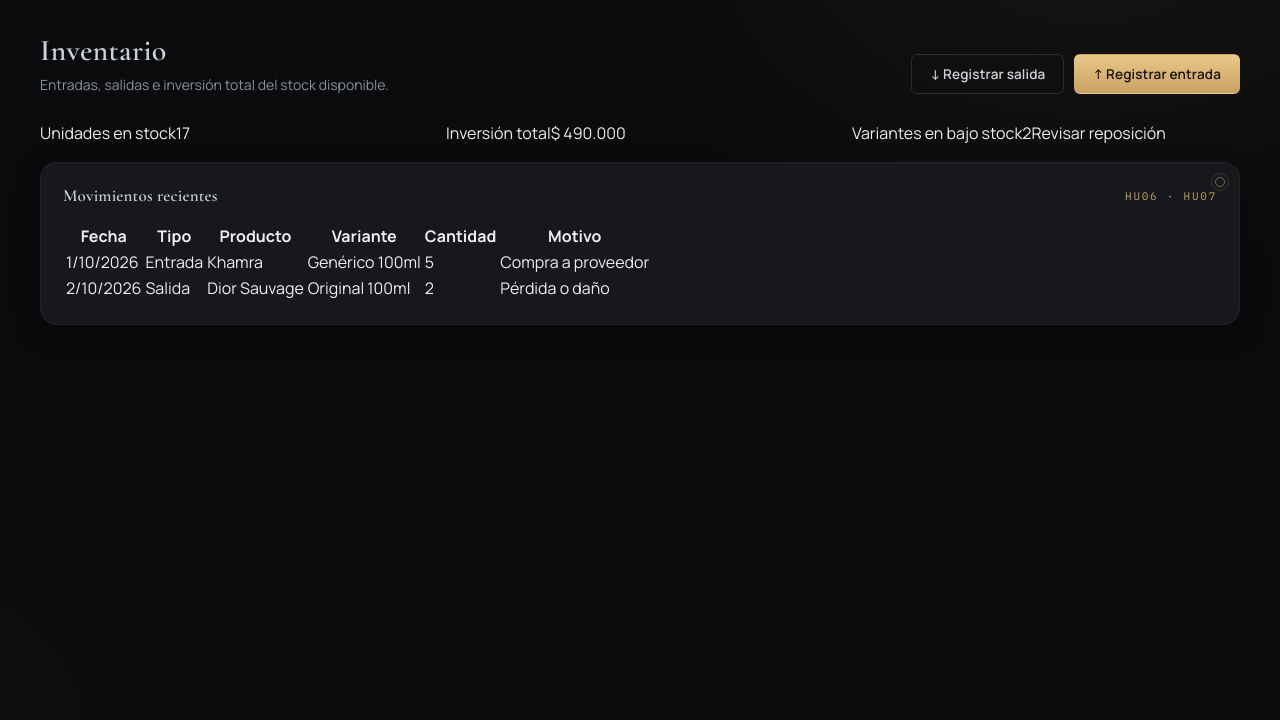
Test: Inventario: formulario de movimientos › muestra el error del servidor y mantiene el formulario abierto
Expected: the text "Unidades en stock" is shown, [40,122,176,144]
Click the button "↑ Registrar entrada".
click(1157, 74)  # box [1074,54,1240,94]
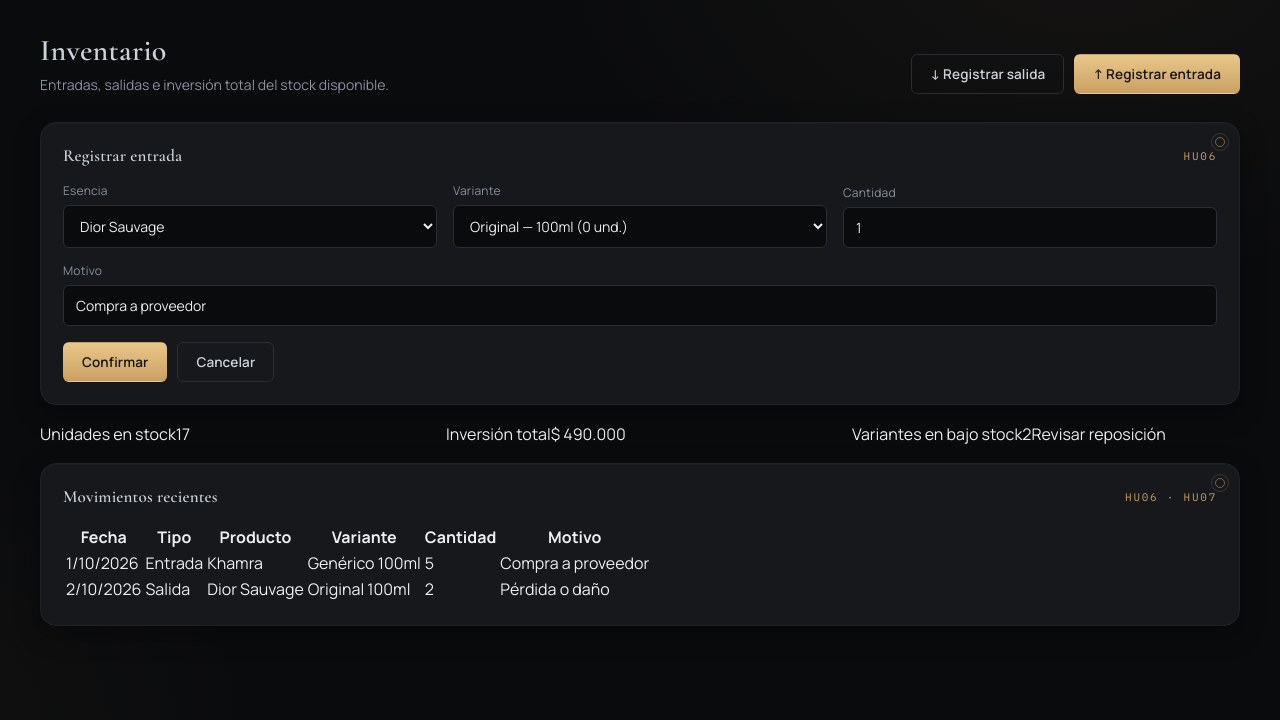
Click the button "Confirmar".
click(115, 362)  # box [63,342,167,382]
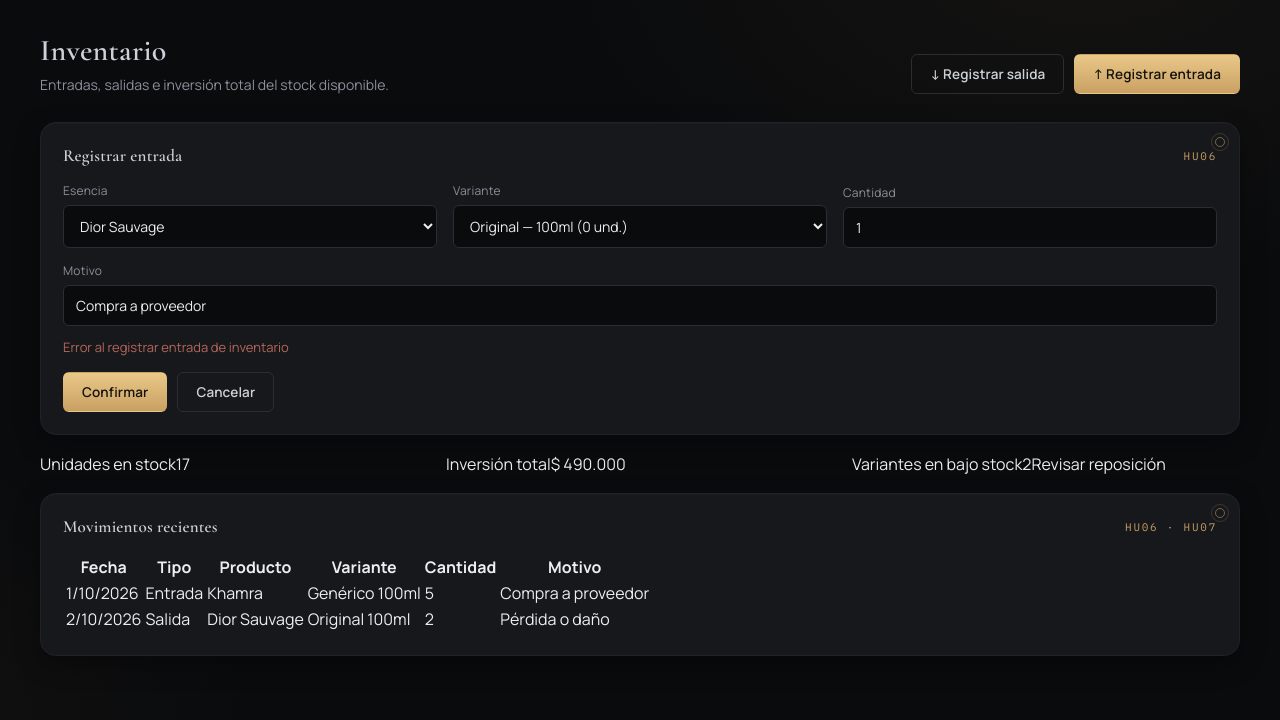
Result: the heading "Registrar entrada" is shown at [63,145,182,166]
Result: the button "Confirmar" is enabled at [63,372,167,412]
Result: the text "Error al registrar entrada de inventario" is shown at [63,338,289,356]
